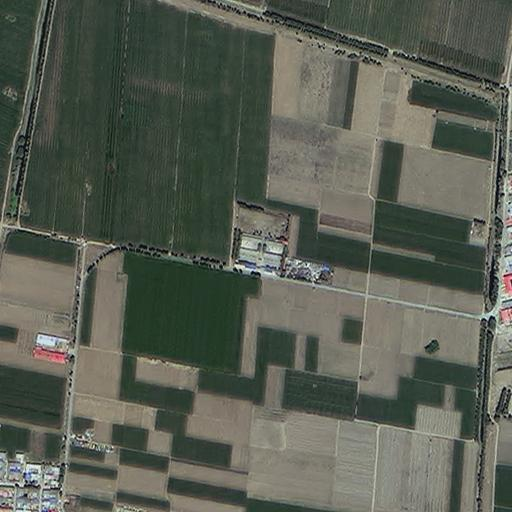school: (228, 203, 291, 275)
